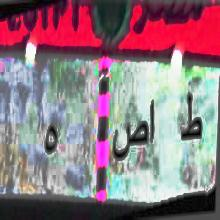5: (40, 122, 61, 165)
Taa: (181, 94, 203, 151)
alif: (150, 100, 158, 143)
saad: (112, 116, 148, 164)
